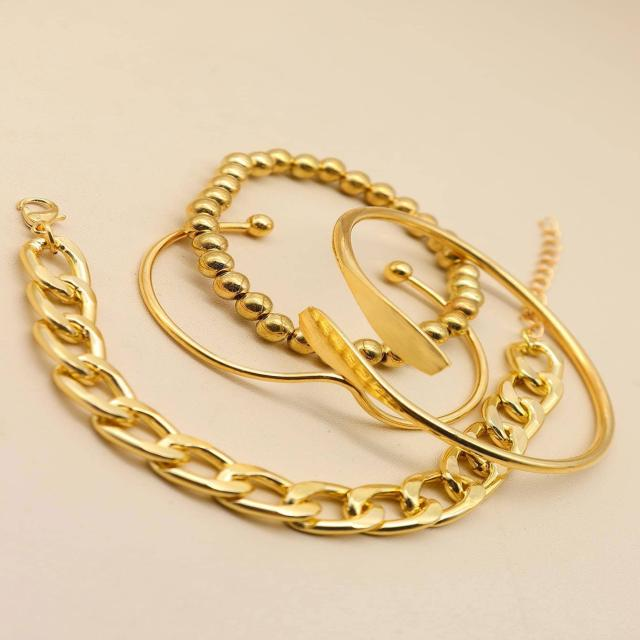bracelet: (24, 92, 640, 629)
